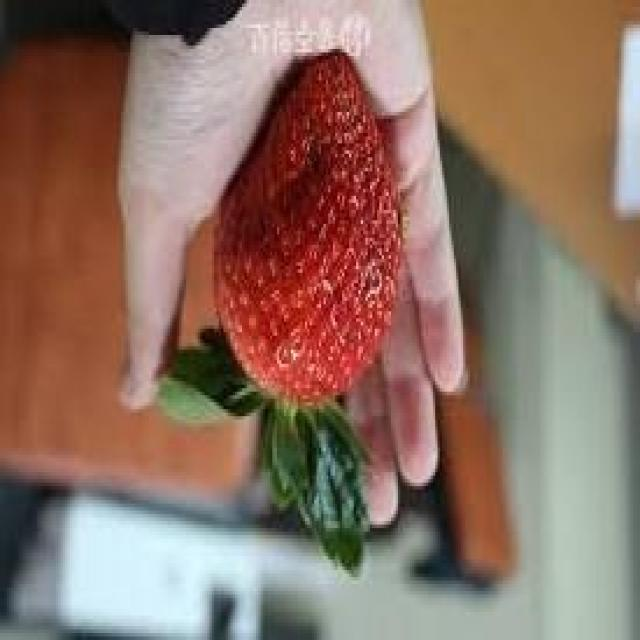mature: (212, 50, 403, 408)
